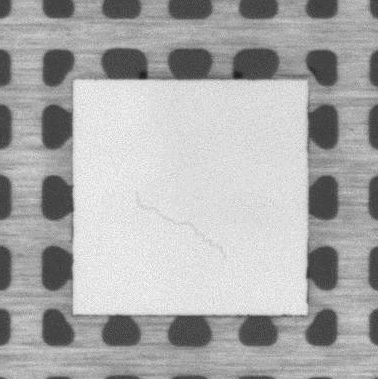DIE_CRACK: (135, 190, 227, 259)
